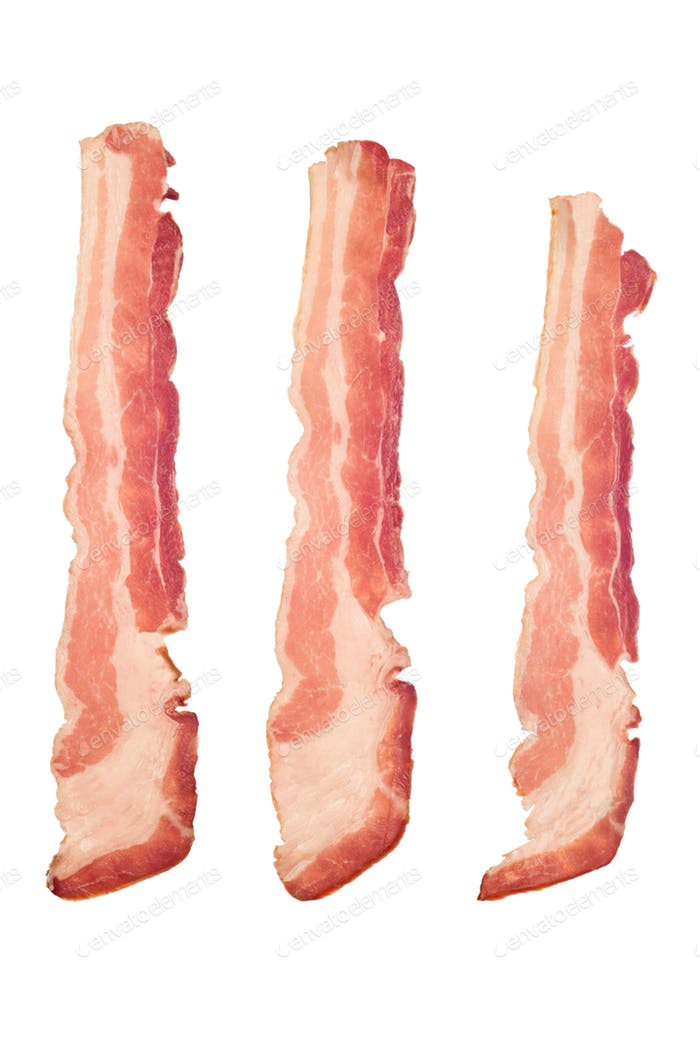bacon: (16, 119, 222, 907), (255, 121, 437, 936), (497, 182, 673, 908)
